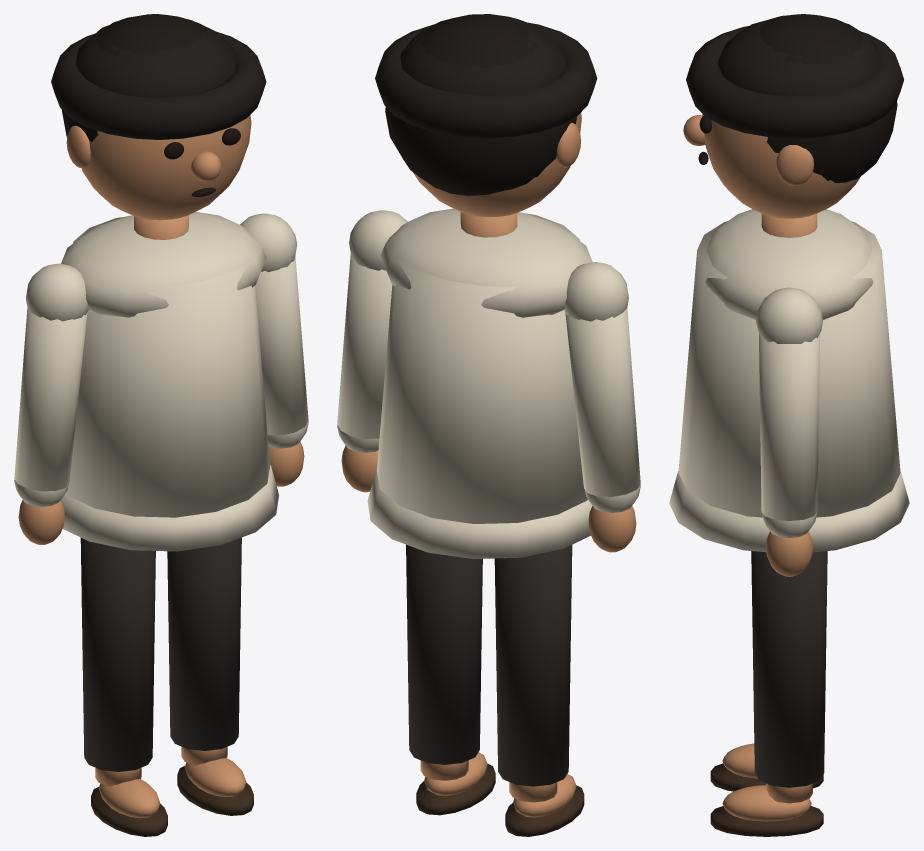
File: villager_young_man.glb
The picture shows the model from 3 angles, left to right: view 1: azimuth 30°, elevation 25°; view 2: azimuth 150°, elevation 25°; view 3: azimuth 270°, elevation 25°; orthographic projection. The views are drawn at different scales.
Parts seen in each view (by area): view 1: Body, Head, LegL, LegR, ArmL, ArmR; view 2: Body, Head, LegL, LegR, ArmL, ArmR; view 3: Body, Head, LegR, ArmR, LegL.
Part boxes in pixels (bbox=[...]): Body: bbox=[61, 212, 279, 551]; Head: bbox=[51, 14, 266, 220]; LegL: bbox=[80, 538, 167, 836]; LegR: bbox=[167, 537, 253, 815]; ArmL: bbox=[14, 263, 88, 544]; ArmR: bbox=[240, 213, 308, 486]; Body: bbox=[367, 208, 592, 558]; Head: bbox=[375, 14, 597, 217]; LegL: bbox=[494, 545, 584, 836]; LegR: bbox=[406, 544, 495, 815]; ArmL: bbox=[564, 262, 640, 552]; ArmR: bbox=[337, 210, 407, 492]; Body: bbox=[669, 209, 909, 552]; Head: bbox=[683, 14, 903, 218]; LegR: bbox=[710, 551, 827, 836]; ArmR: bbox=[756, 287, 822, 576]; LegL: bbox=[710, 743, 823, 791].
Bounding box in the file's own units: 0.6 × 1.54 × 0.43.
